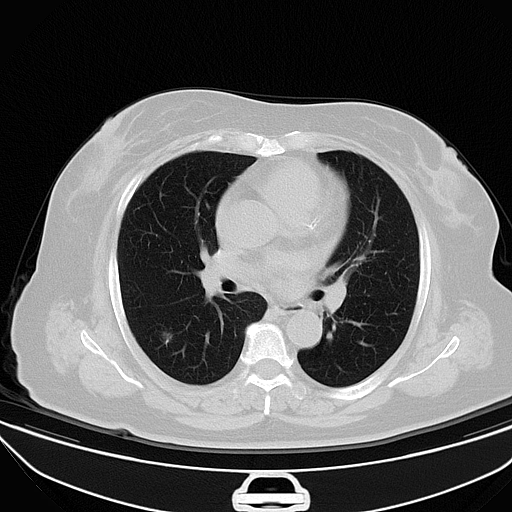nodule: (157, 330, 173, 344)
